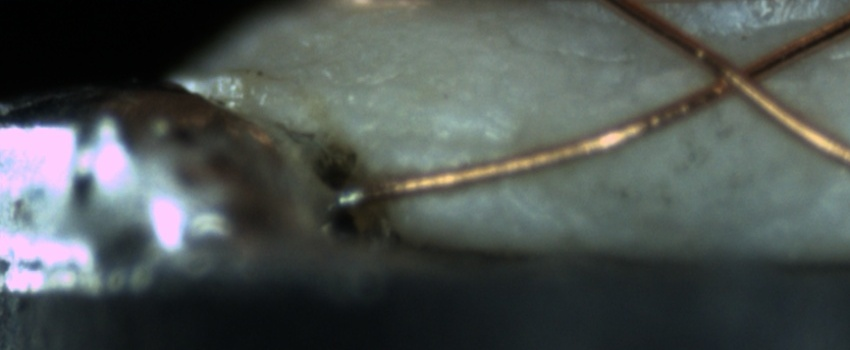CL: (686, 37, 786, 114)
DL: (383, 113, 511, 168)
TS: (336, 186, 367, 211)
